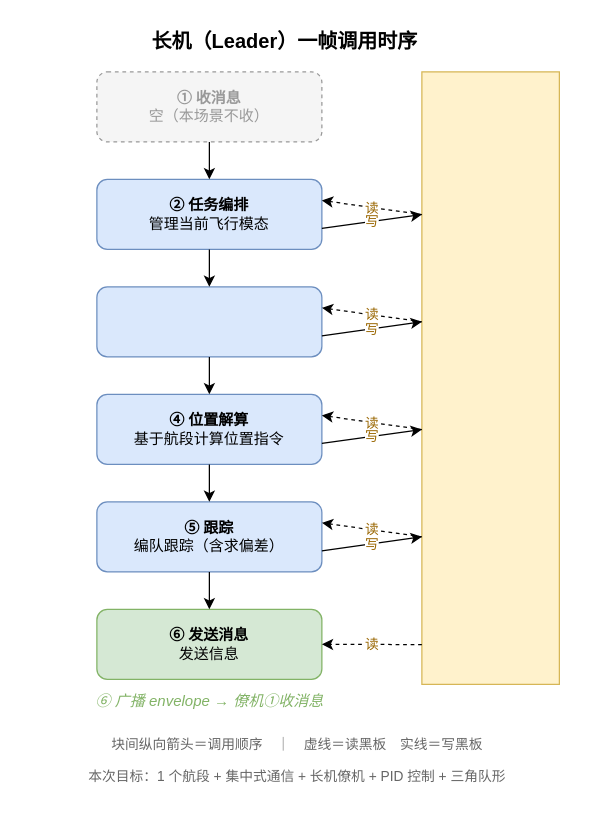
The diagram is 593 pixels wide and 813 high, and some of its shapes have lost their labels. Each missing label, with the centre of its shape:
Context （黑板）: the point at 490,377
③ 轨迹规划 解算需要跟踪的航段: the point at 209,321
